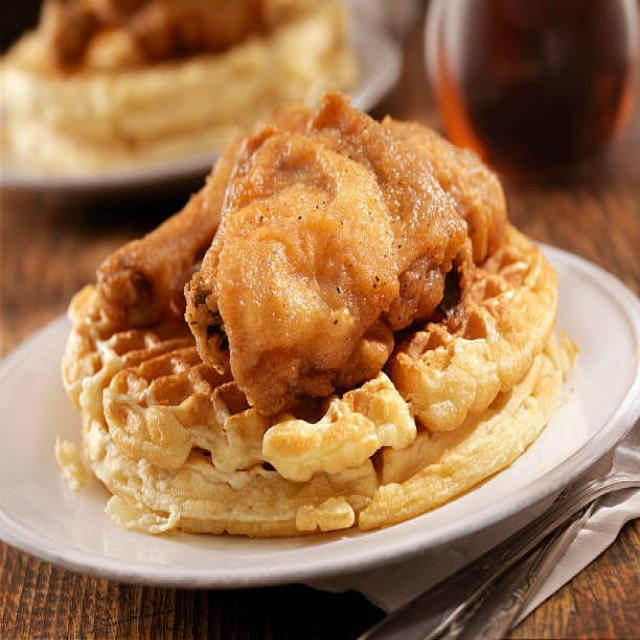Frango: (92, 85, 509, 416)
